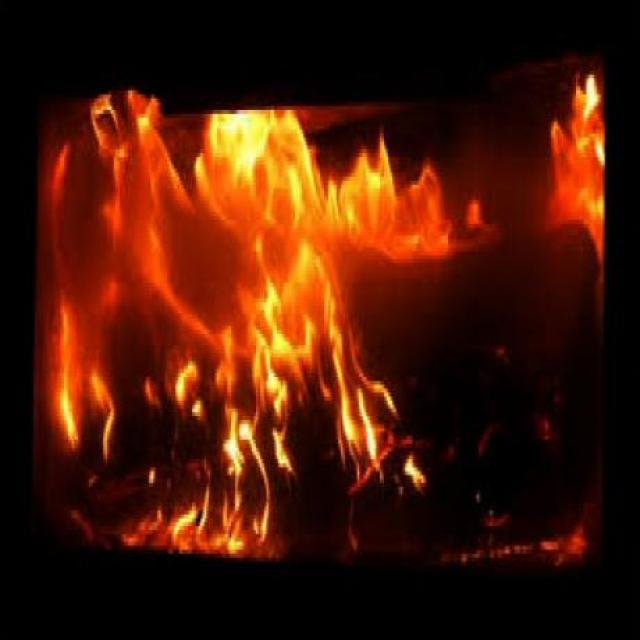Fire: (31, 80, 617, 542)
